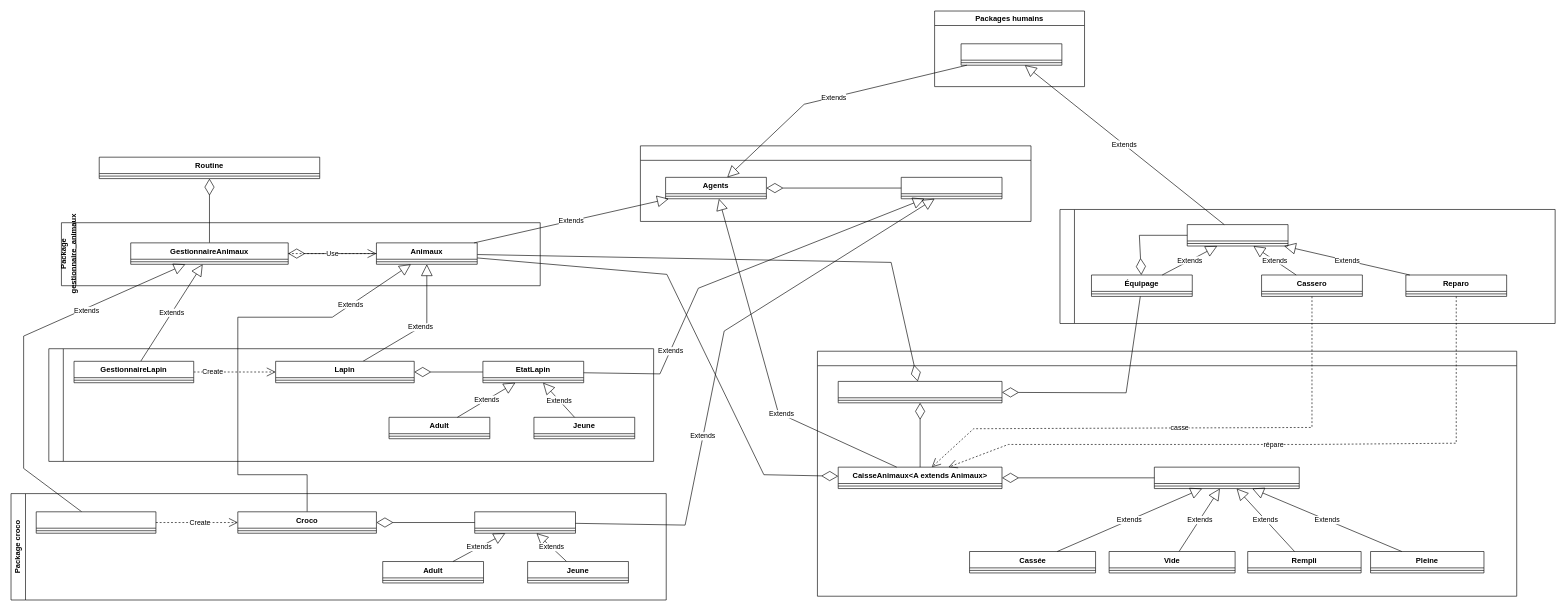
This 1566x611 diagram has some shape labels left out. Each missing label, with the box of its shape:
Bateau: (838, 381, 1002, 403)
EtatCaisse: (1154, 467, 1299, 489)
EtatCroco: (474, 511, 576, 533)
GestionnaireCroco: (36, 511, 156, 533)
Humains: (960, 43, 1062, 65)
Package bateau: (817, 351, 1517, 596)
Package lapin: (48, 348, 654, 461)
Package Pirates: (1059, 209, 1555, 324)
Packages agents: (640, 145, 1031, 221)
Pirate: (1187, 224, 1288, 246)
State: (901, 177, 1002, 199)
